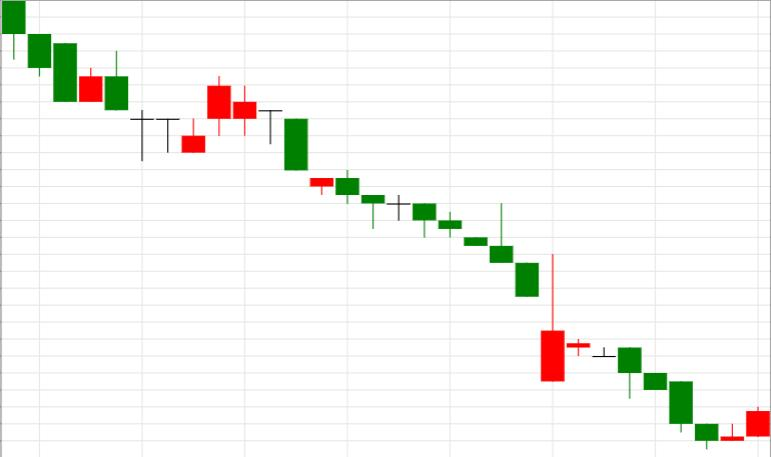inverse_hammer_rise: (284, 119, 565, 381)
